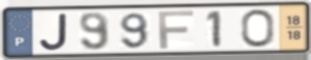1: (204, 10, 224, 48)
9: (77, 10, 112, 52), (118, 11, 153, 50)
F: (156, 9, 196, 51)
J: (38, 12, 69, 52)
O: (239, 8, 277, 49)
